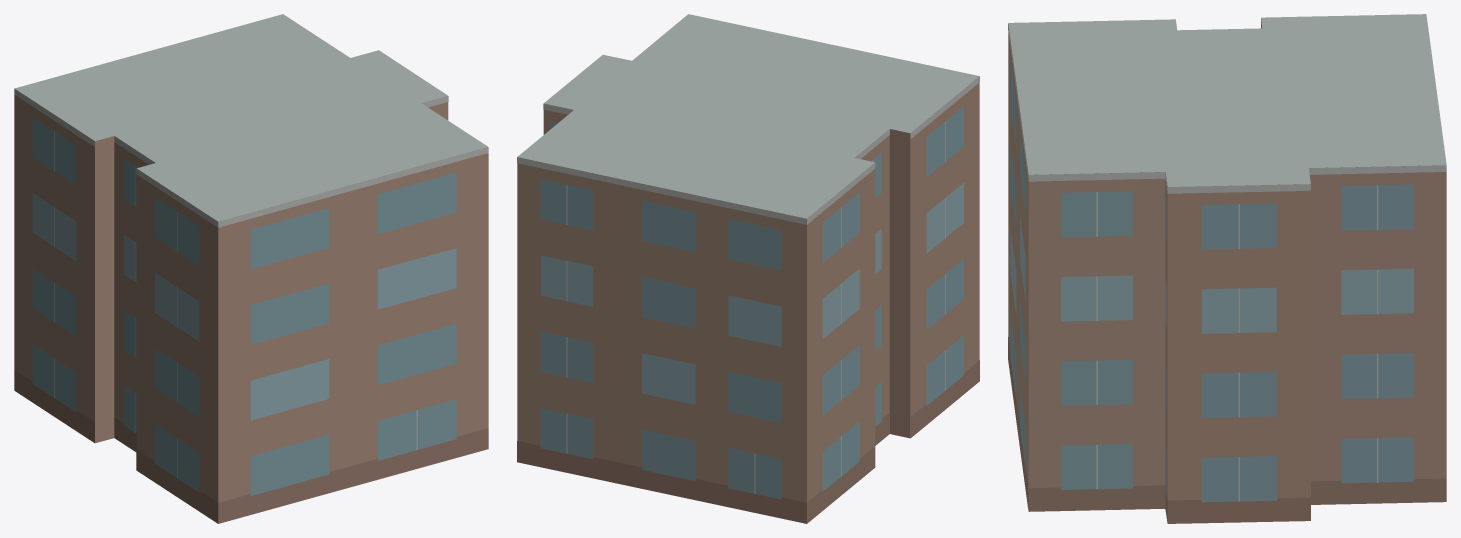
File: survey-upis-32911964.glb
The picture shows the model from 3 angles, left to right: view 1: azimuth 30°, elevation 25°; view 2: azimuth 150°, elevation 25°; view 3: azimuth 270°, elevation 25°; orthographic projection. The views are drawn at different scales.
Visible parts, largest first — view 1: survey-upis-32911964.tmp; view 2: survey-upis-32911964.tmp; view 3: survey-upis-32911964.tmp.
Part boxes in pixels (x1,y1,x2,y2): survey-upis-32911964.tmp: [14, 14, 488, 523]; survey-upis-32911964.tmp: [517, 14, 979, 523]; survey-upis-32911964.tmp: [1008, 14, 1446, 523].
Size of the model in its own units: 13.45 by 12.2 by 14.41.
